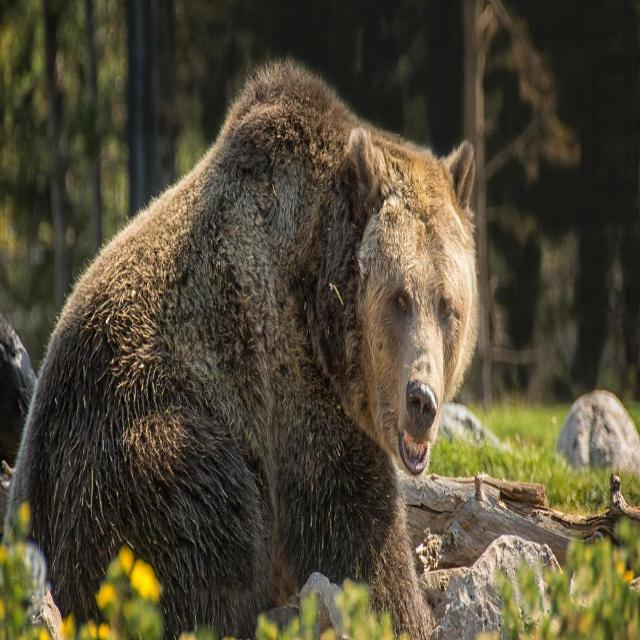Bear: (6, 58, 482, 640)
